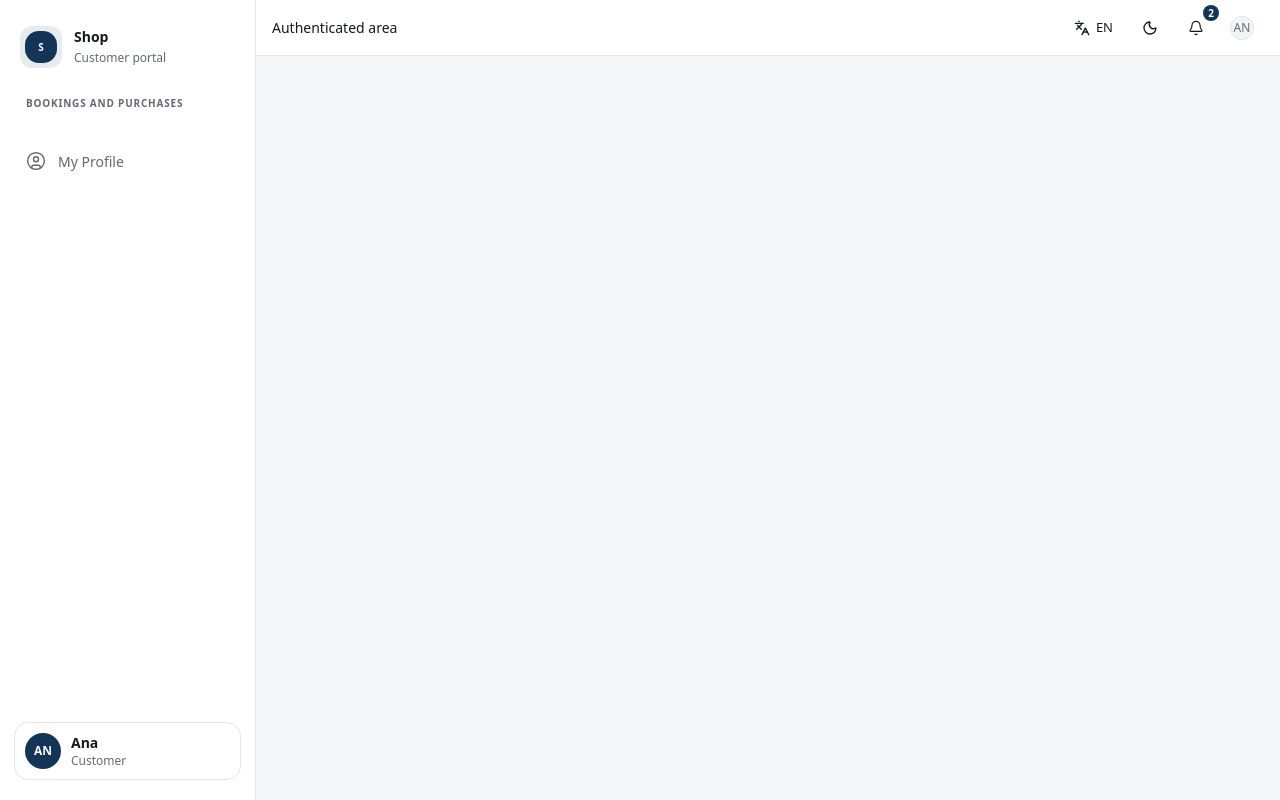
Test case: recovers from a customer list failure using retry (en)
The image size is (1280, 800).
Step 1. Click the button "2" → (1196, 28), box [1174, 6, 1218, 50]
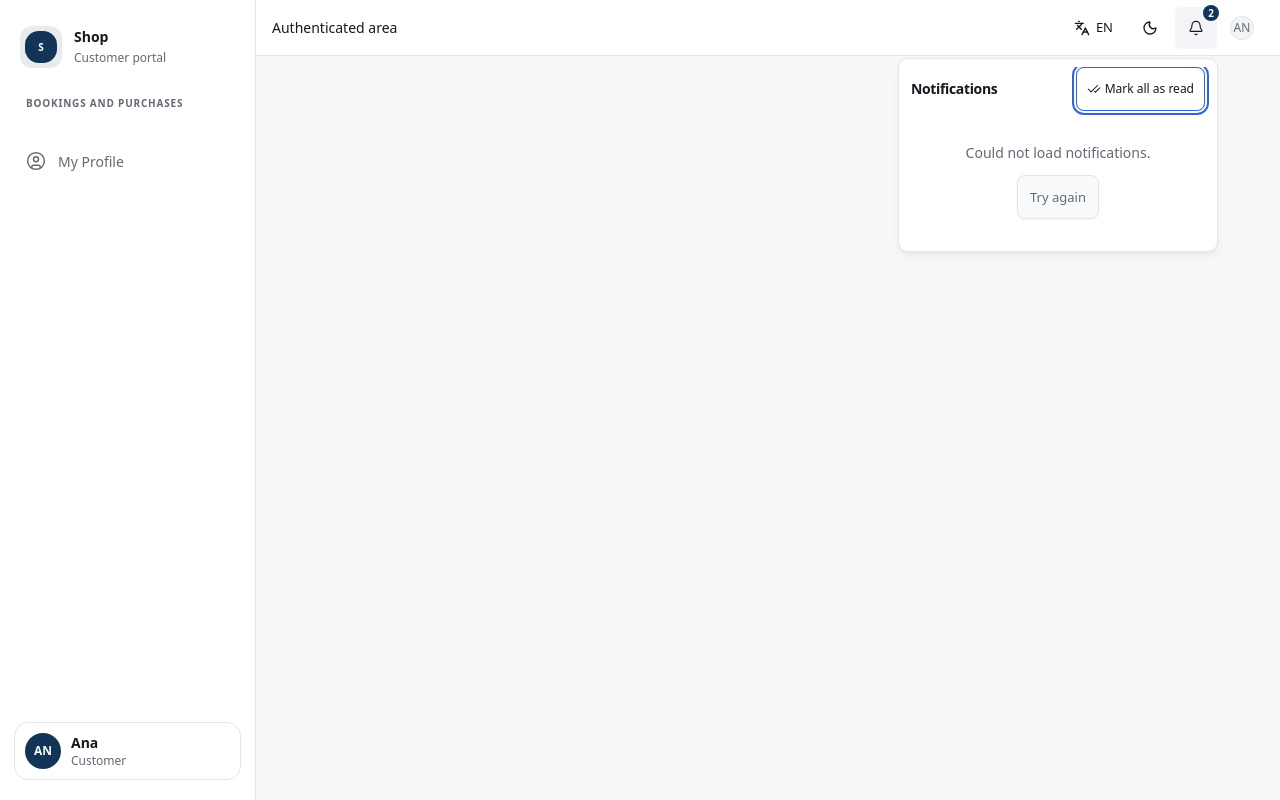
Expected: the message shows "Could not load notifications.", [966, 143, 1150, 162]
Step 2. Click the button "Try again" → (1058, 197), box [1017, 175, 1099, 219]
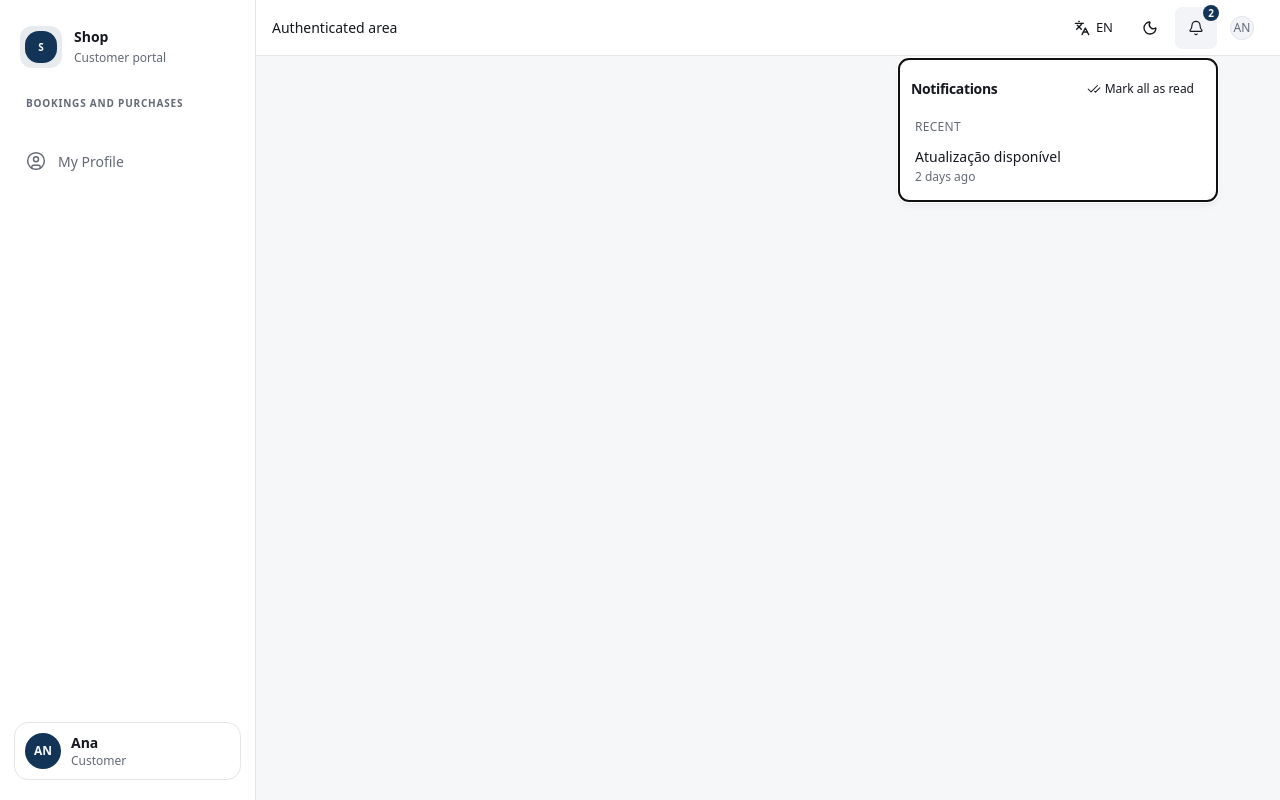
Expected: the button "Atualização disponível 2 days ago" is shown, [907, 139, 1209, 193]
Expected: the message "Could not load notifications. Try again" is gone
